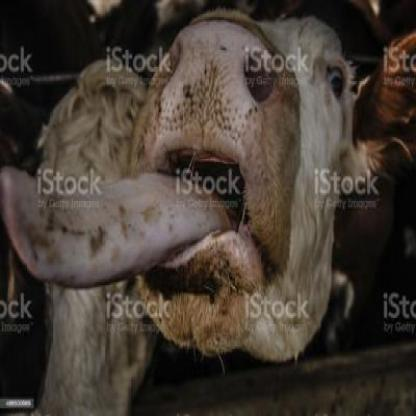lower: (176, 298, 208, 343)
mouth: (138, 14, 298, 361)
upper: (188, 31, 233, 79)
